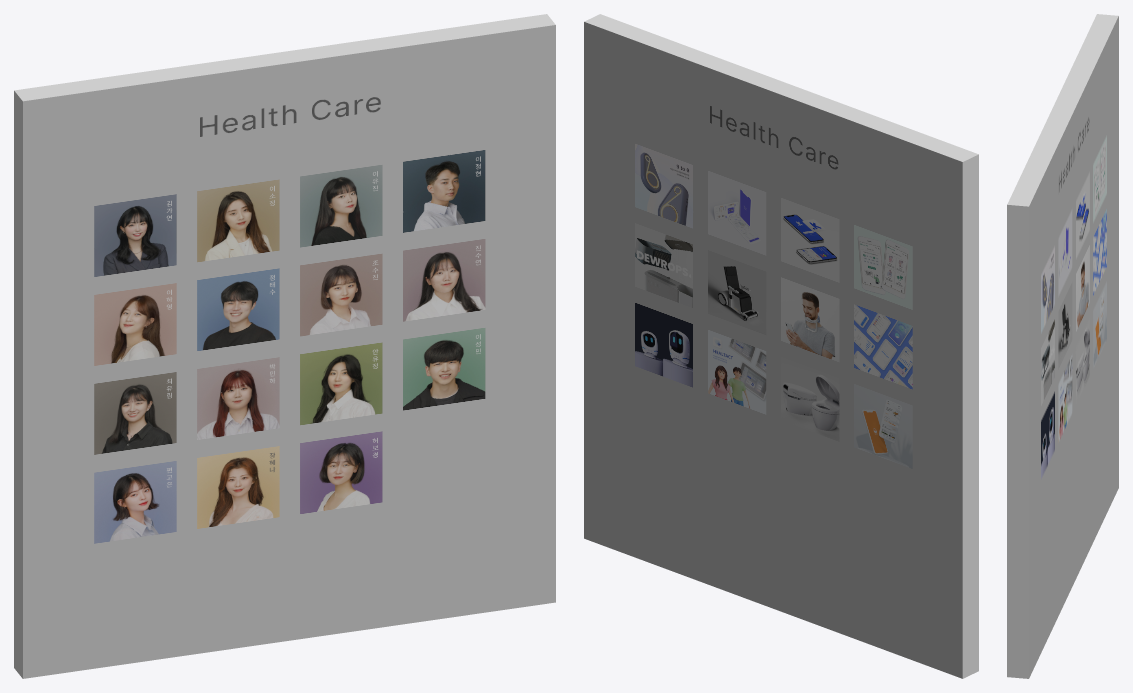
The picture shows the model from 3 angles, left to right: view 1: azimuth 30°, elevation 25°; view 2: azimuth 150°, elevation 25°; view 3: azimuth 270°, elevation 25°; orthographic projection. The views are drawn at different scales.
Parts seen in each view (by area): view 1: Cylinder.025; view 2: Cylinder.025; view 3: Cylinder.025.
Part boxes in pixels (<box>): Cylinder.025: <box>14,14,555,678</box>; Cylinder.025: <box>584,14,978,678</box>; Cylinder.025: <box>1007,14,1118,678</box>.
Bounding box in the file's own units: 6.13 × 7 × 1.5.
Materials: 3 (2 with a texture image).
